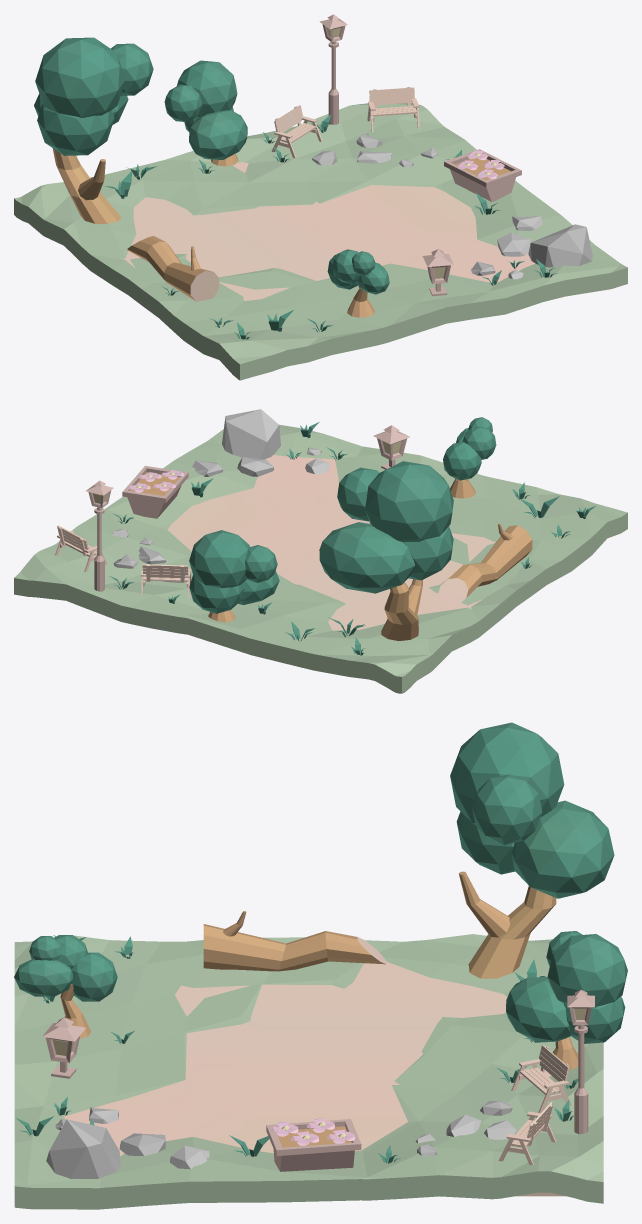
File: meta2.glb
3 views of the same model, one above another, from view 1: azimuth 30°, elevation 25°; view 2: azimuth 150°, elevation 25°; view 3: azimuth 270°, elevation 25° (orthographic). The views are drawn at different scales.
Visible parts, largest first — view 1: Cube.004; view 2: Cube.004; view 3: Cube.004.
Part boxes in pixels (<box>): Cube.004: <box>14,14,627,380</box>; Cube.004: <box>14,409,627,693</box>; Cube.004: <box>14,722,627,1209</box>.
Bounding box in the file's own units: 3.68 × 1.74 × 3.77.
Materials: 1 (1 with a texture image).
